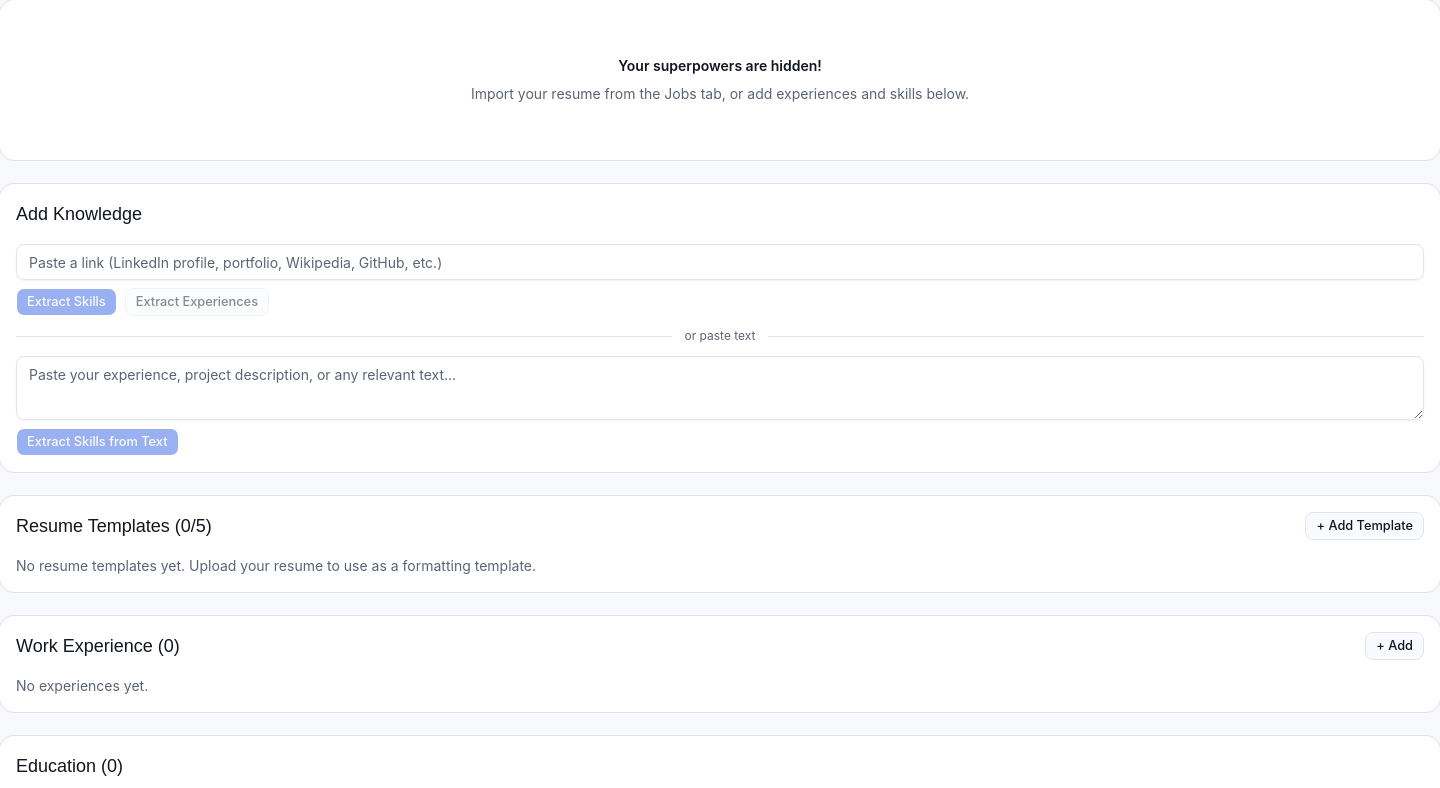
it: Extract Experiences from Link › shows cost warning when Extract Experiences is clicked with a URL
Type "https://example.com/portfolio" into the field with placeholder "Paste a link" at (720, 262), box [16,244,1424,280]
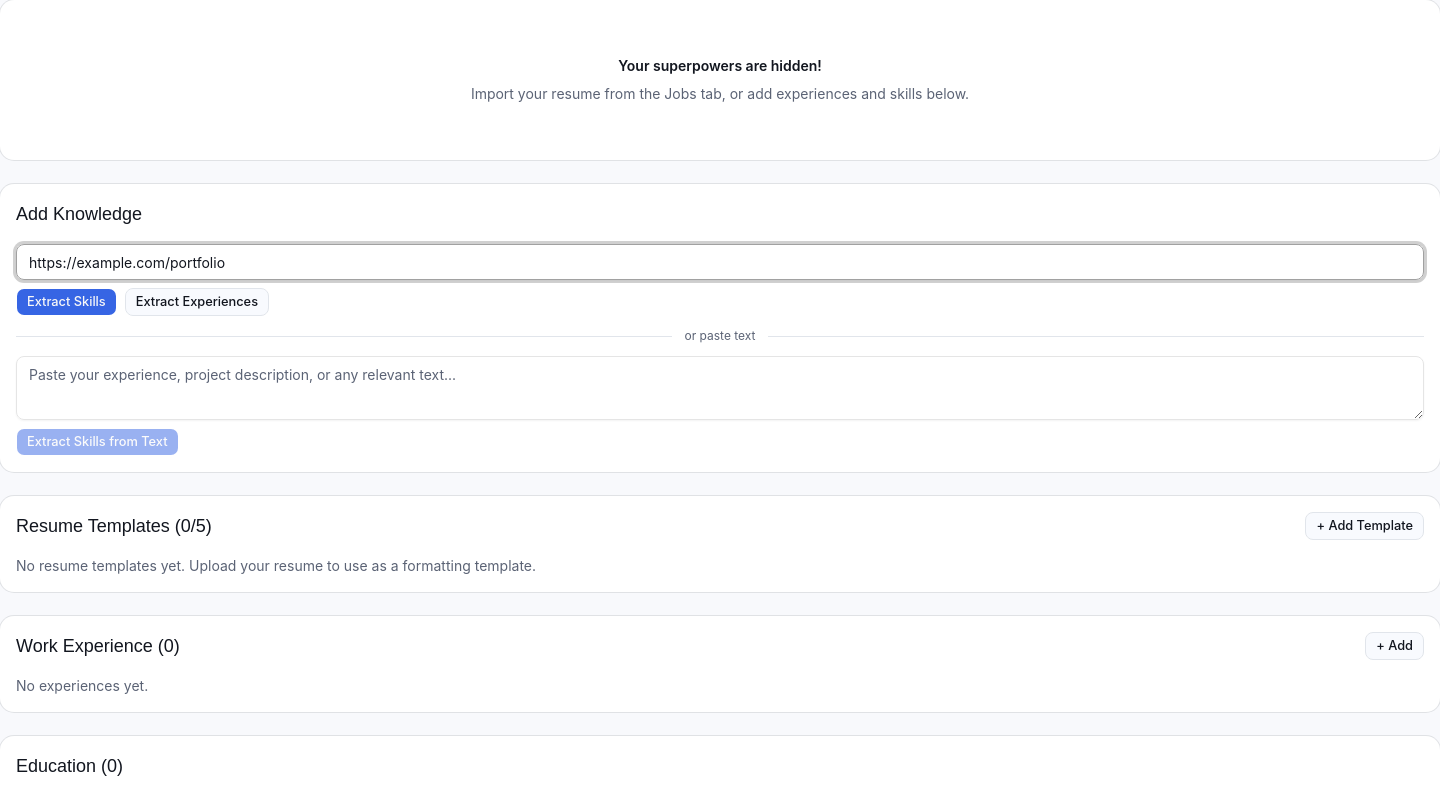
Click the button "Extract Experiences" at (197, 302), box [125,288,269,316]
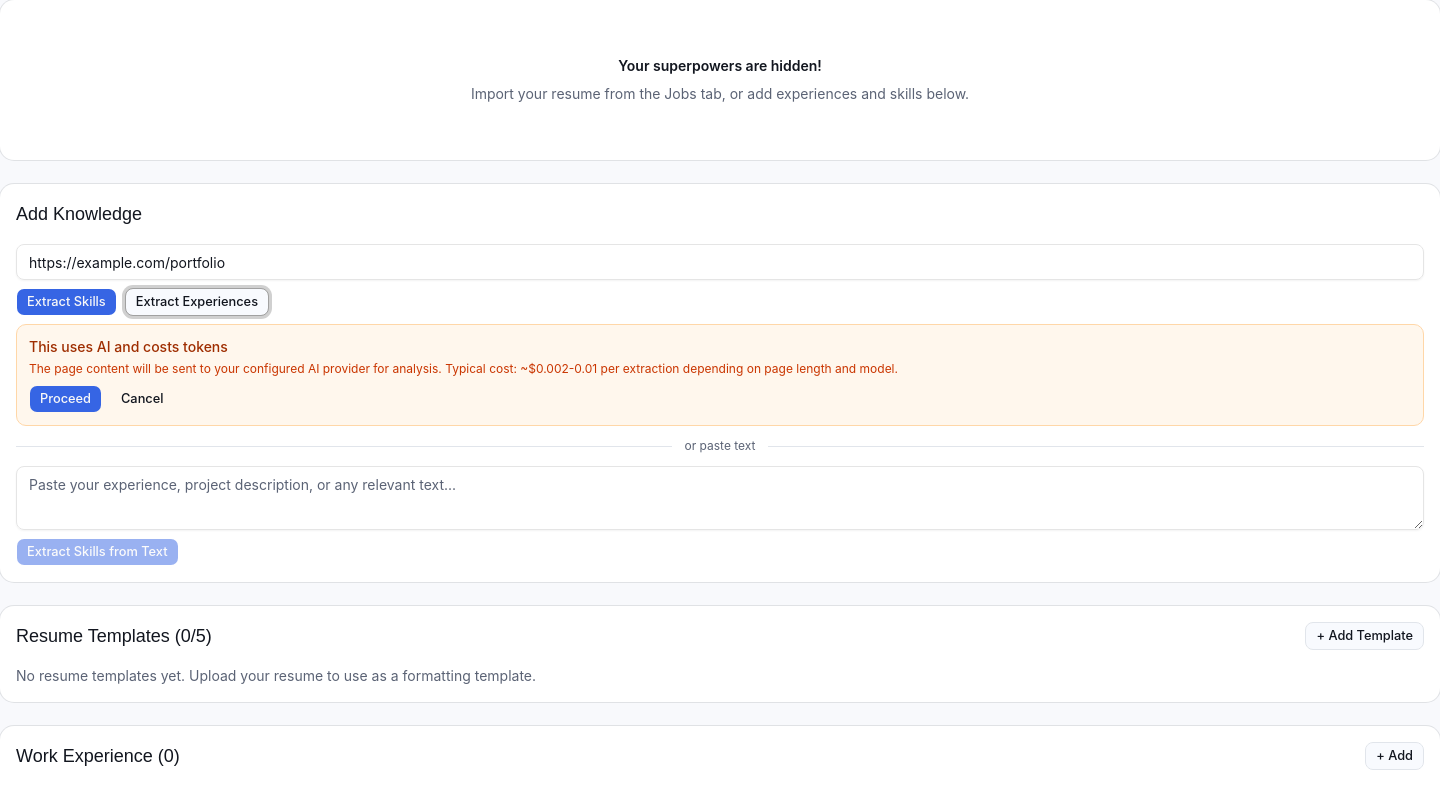
Check: the text "This uses AI and costs tokens" is shown, box [29,338,228,355]
